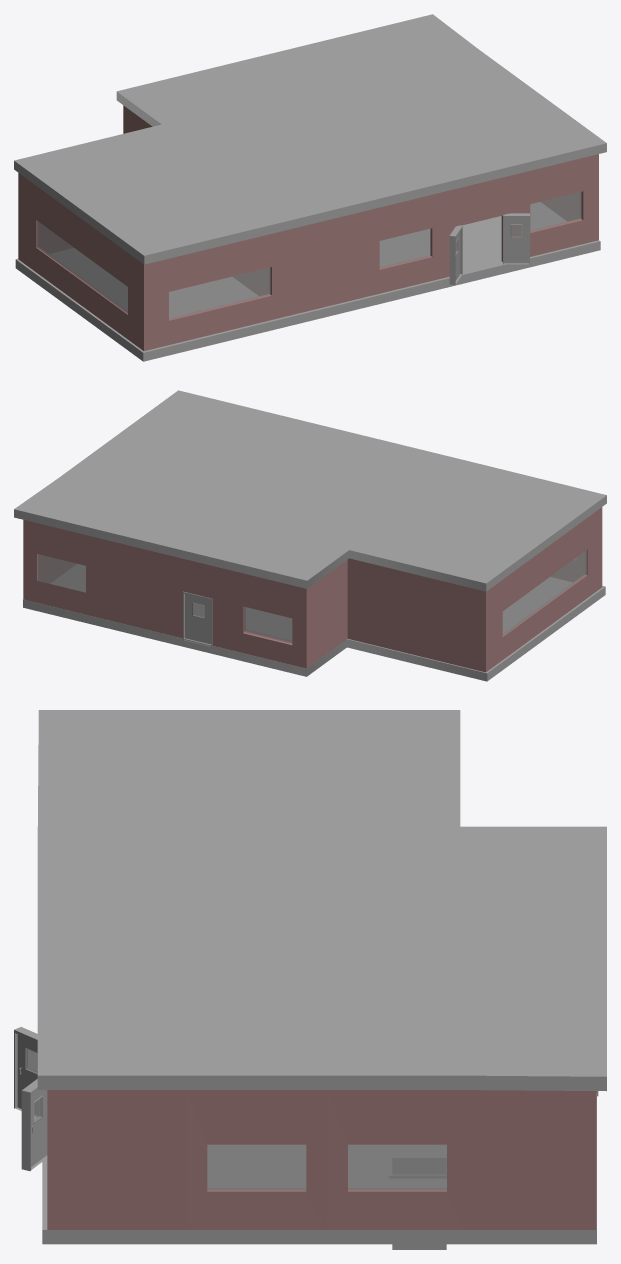
Rendered from building.fbx.
3 views of the same model, one above another, from view 1: azimuth 30°, elevation 25°; view 2: azimuth 150°, elevation 25°; view 3: azimuth 270°, elevation 25° (orthographic). The views are drawn at different scales.
Visible parts, largest first — view 1: pCube11, polySurface3, pCube280, polySurface343, pCube19, pCube18; view 2: pCube11, polySurface3, pCube280, polySurface343, pCube20; view 3: pCube11, polySurface3, pCube280, polySurface343, pCube19, pCube18.
Part boxes in pixels (bbox=[...]): pCube11: bbox=[14, 14, 606, 264]; polySurface3: bbox=[18, 105, 598, 350]; pCube280: bbox=[15, 202, 600, 361]; polySurface343: bbox=[37, 192, 581, 319]; pCube19: bbox=[503, 213, 529, 264]; pCube18: bbox=[449, 225, 462, 284]; pCube11: bbox=[14, 390, 606, 591]; polySurface3: bbox=[23, 507, 602, 672]; pCube280: bbox=[23, 564, 605, 681]; polySurface343: bbox=[38, 550, 586, 643]; pCube20: bbox=[183, 591, 212, 646]; pCube11: bbox=[37, 710, 606, 1091]; polySurface3: bbox=[47, 1090, 596, 1229]; pCube280: bbox=[42, 1093, 596, 1249]; polySurface343: bbox=[26, 1049, 446, 1190]; pCube19: bbox=[21, 1079, 47, 1171]; pCube18: bbox=[14, 1027, 38, 1117].
Bounding box in the file's own units: 11.69 × 3.44 × 7.99.
